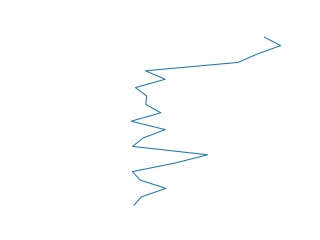crevasseRiverChannelBar: (125, 32, 286, 209)
